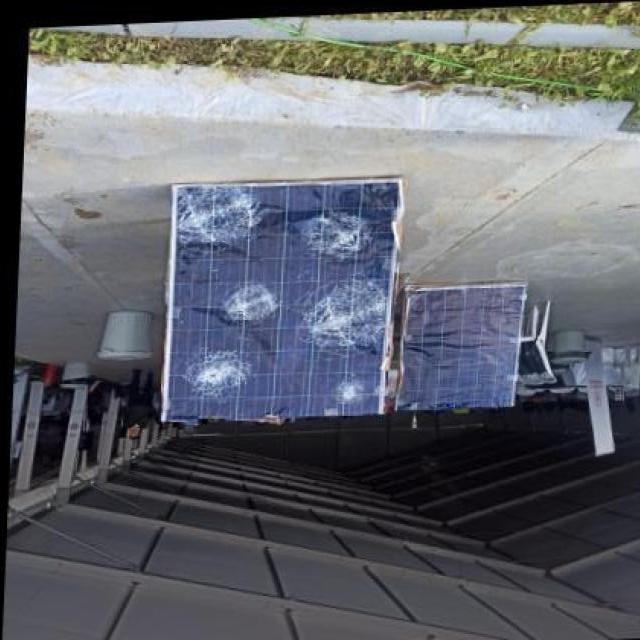cracked: (163, 176, 401, 424)
